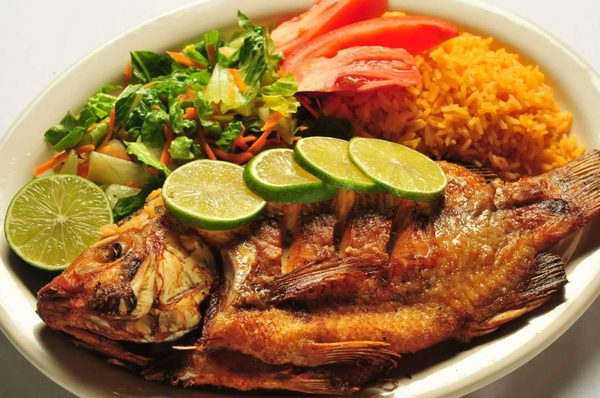taco: (4, 173, 114, 272), (161, 158, 268, 234)
